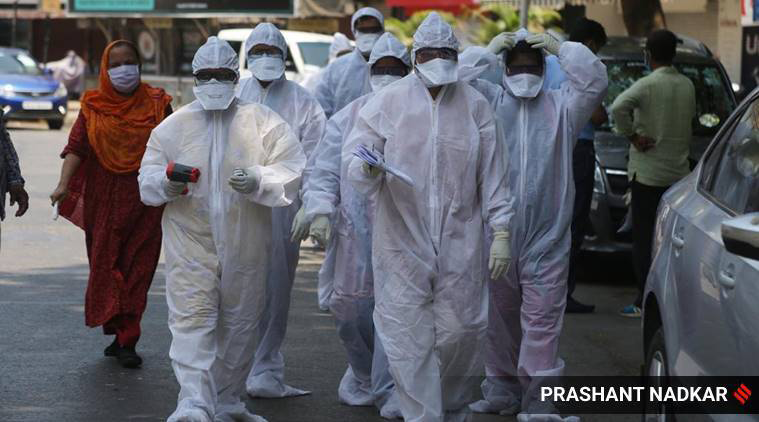Coverall: (139, 38, 305, 422), (351, 19, 506, 417), (460, 36, 611, 422), (232, 21, 342, 392)
Gloves: (486, 230, 515, 281), (226, 160, 265, 197), (524, 24, 564, 53), (286, 200, 313, 241), (307, 216, 338, 246), (483, 27, 516, 54)
with_mask: (193, 73, 236, 112), (416, 53, 459, 92), (505, 69, 544, 102), (104, 59, 141, 93), (250, 50, 286, 84), (353, 24, 382, 54)
